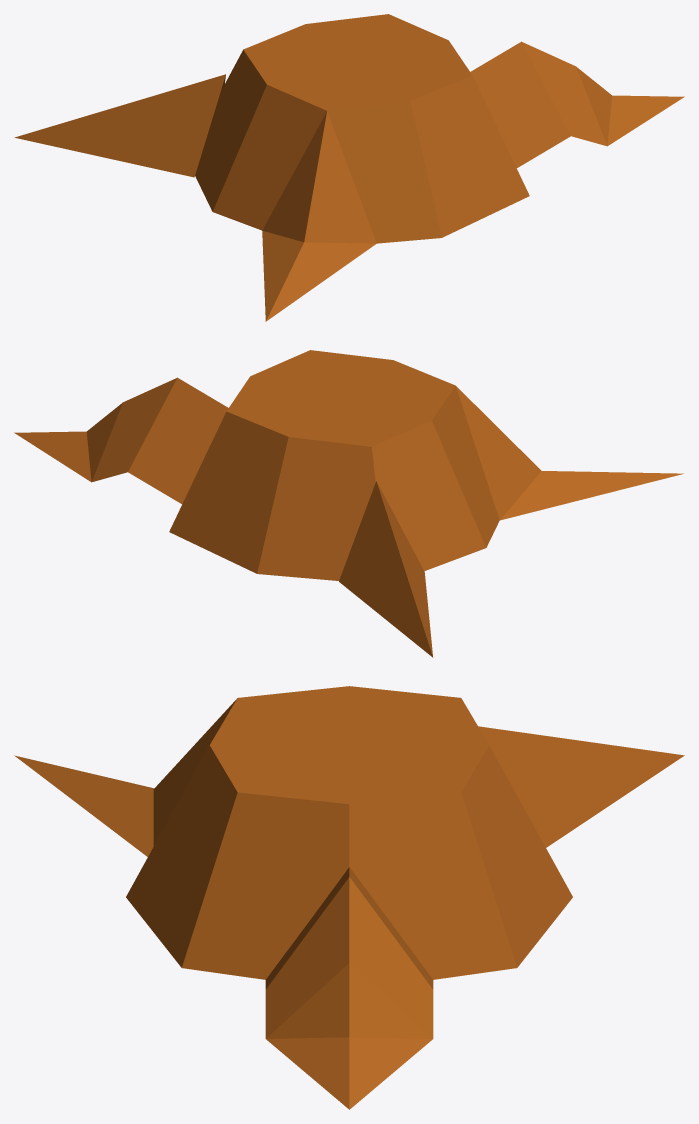
Rendered from stump1.glb.
3 views of the same model, one above another, from view 1: azimuth 30°, elevation 25°; view 2: azimuth 150°, elevation 25°; view 3: azimuth 270°, elevation 25° (orthographic). The views are drawn at different scales.
Visible parts, largest first — view 1: tree; view 2: tree; view 3: tree.
Boxes of the visible parts, left/top/right/bottom form: tree: left=14, top=14, right=684, bottom=321; tree: left=14, top=350, right=683, bottom=657; tree: left=14, top=686, right=684, bottom=1109.
Bounding box in the file's own units: 1.29 × 0.2578 × 1.03.
